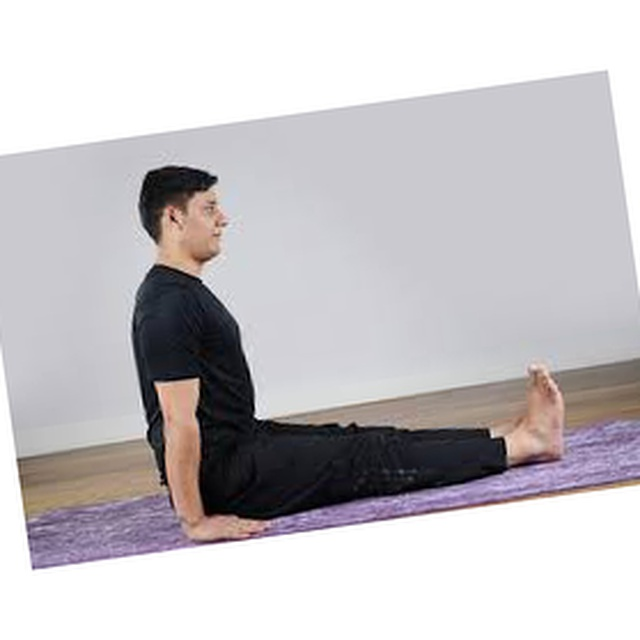Staff_Pose: (129, 164, 568, 545)
